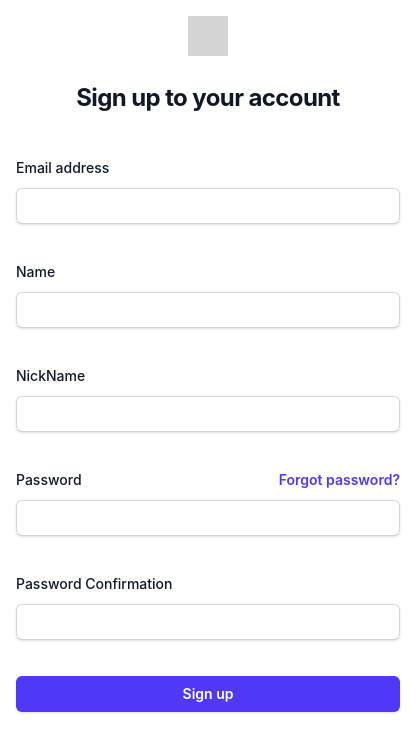
Test: 회원가입 테스트 › 이메일 형식을 확인 한다 › 이메일 형식이 아닌 값이 입력되면 에러메세지가 표시된다
# 이메일 형식이 아닌 값 입력
Type "wrongEmail" into the field labelled "Email address" at (208, 206), box x1=16 y1=188 x2=400 y2=224
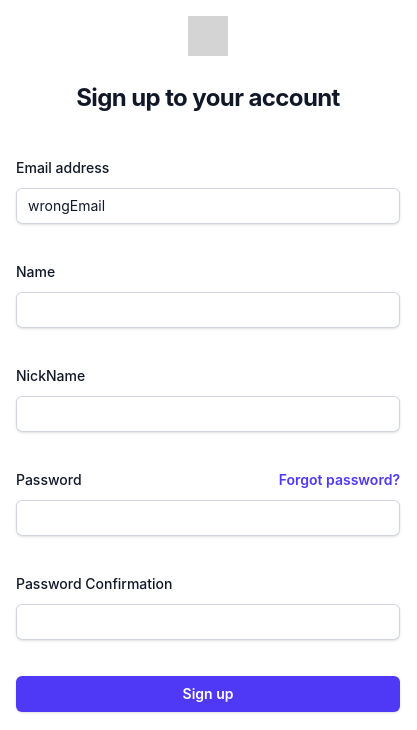
Submit the form from the button with test id "submit-button", box x1=16 y1=676 x2=400 y2=712
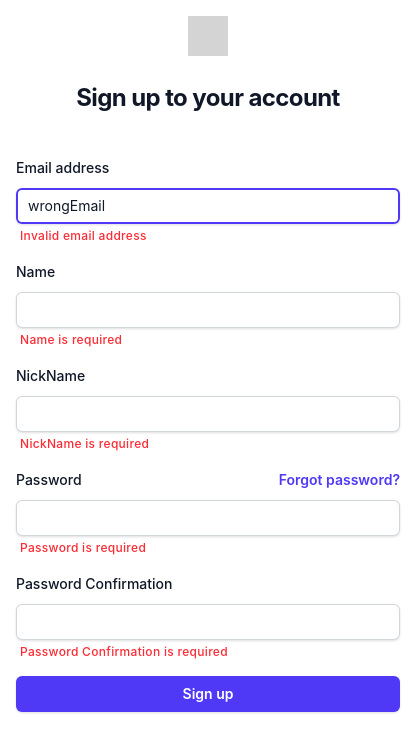
expect the text "Invalid email address" is shown: met, box x1=20 y1=228 x2=147 y2=243
